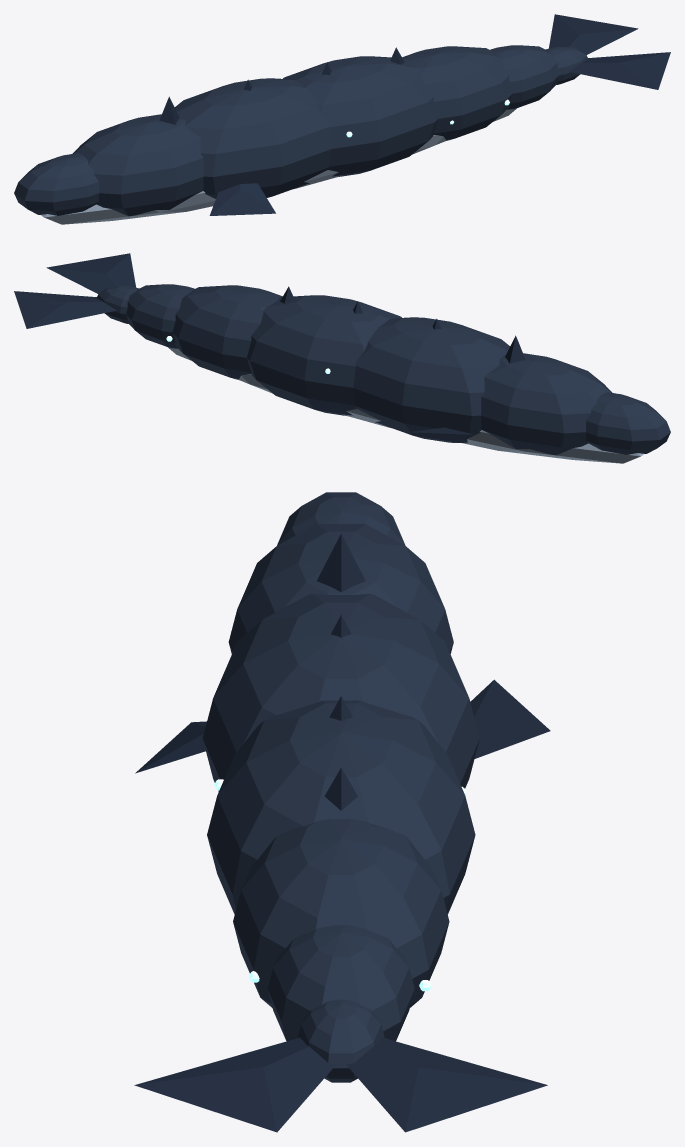
File: leviathan.glb
3 views of the same model, one above another, from view 1: azimuth 30°, elevation 25°; view 2: azimuth 150°, elevation 25°; view 3: azimuth 270°, elevation 25° (orthographic). The views are drawn at different scales.
Visible parts, largest first — view 1: Sphere.002, Sphere.003, Sphere.001, Sphere.004, Sphere, Sphere.005, Cone, Sphere.007, Cone.001, Cone.002, Sphere.006; view 2: Sphere.002, Sphere.003, Sphere.001, Sphere.004, Sphere, Sphere.005, Cone.001, Sphere.007, Cone, Sphere.006; view 3: Sphere.003, Sphere.002, Sphere.004, Sphere.001, Sphere.005, Cone.001, Cone, Sphere.006, Cone.003, Sphere, Cone.004, Cone.002.
Boxes of the visible parts, box(x1,y1,x2,y2) form: Sphere.002: box(175, 78, 331, 198); Sphere.003: box(283, 56, 437, 176); Sphere.001: box(72, 114, 203, 216); Sphere.004: box(402, 46, 512, 140); Sphere: box(14, 153, 98, 215); Sphere.005: box(490, 45, 558, 109); Cone: box(568, 52, 670, 89); Sphere.007: box(41, 108, 516, 224); Cone.001: box(549, 14, 638, 54); Cone.002: box(209, 183, 275, 215); Sphere.006: box(545, 47, 588, 84); Sphere.002: box(353, 317, 509, 442); Sphere.003: box(247, 295, 401, 415); Sphere.001: box(481, 353, 612, 455); Sphere.004: box(172, 285, 282, 379); Sphere: box(586, 392, 670, 454); Sphere.005: box(126, 284, 194, 348); Cone.001: box(14, 291, 116, 328); Sphere.007: box(168, 347, 643, 463); Cone: box(46, 253, 135, 293); Sphere.006: box(96, 286, 139, 323); Sphere.003: box(207, 700, 475, 914); Sphere.002: box(202, 594, 479, 791); Sphere.004: box(233, 819, 449, 1007); Sphere.001: box(228, 524, 453, 653); Sphere.005: box(267, 925, 414, 1041); Cone.001: box(346, 1037, 547, 1132); Cone: box(134, 1037, 335, 1132); Sphere.006: box(298, 999, 384, 1082); Cone.003: box(470, 679, 550, 758); Sphere: box(277, 492, 405, 545); Cone.004: box(317, 534, 365, 592); Cone.002: box(135, 721, 206, 773).
Bounding box in the file's own units: 64.39 × 11.32 × 18.29.
